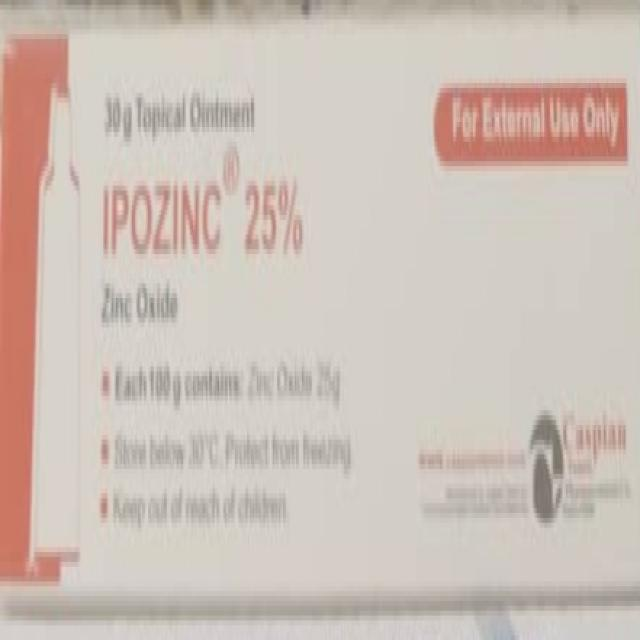drug-name: (97, 175, 310, 262)
